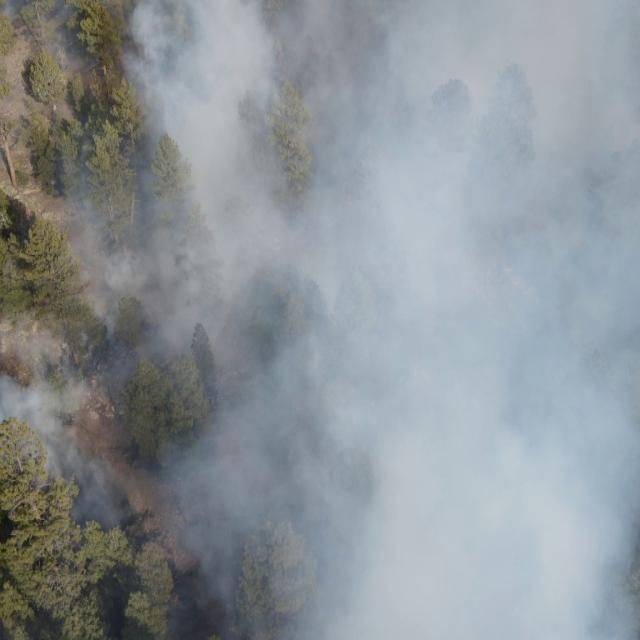fire: (170, 592, 181, 606)
smoke: (0, 0, 640, 640)
